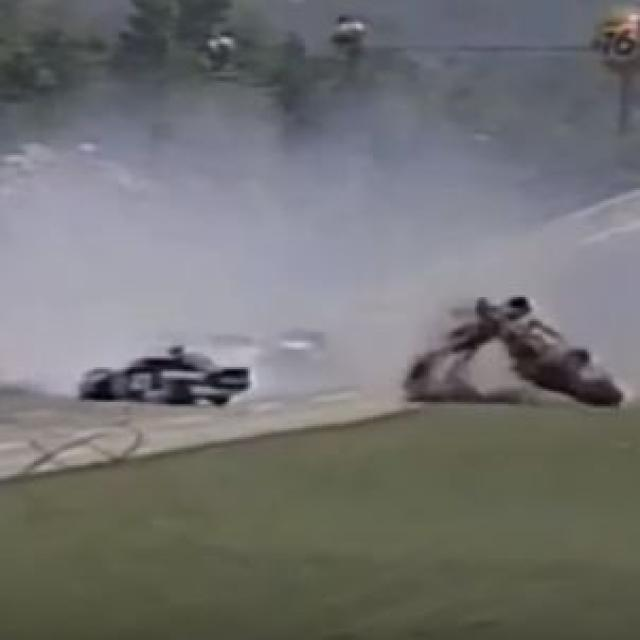traffic_incident: (394, 267, 627, 404), (64, 326, 248, 408)
